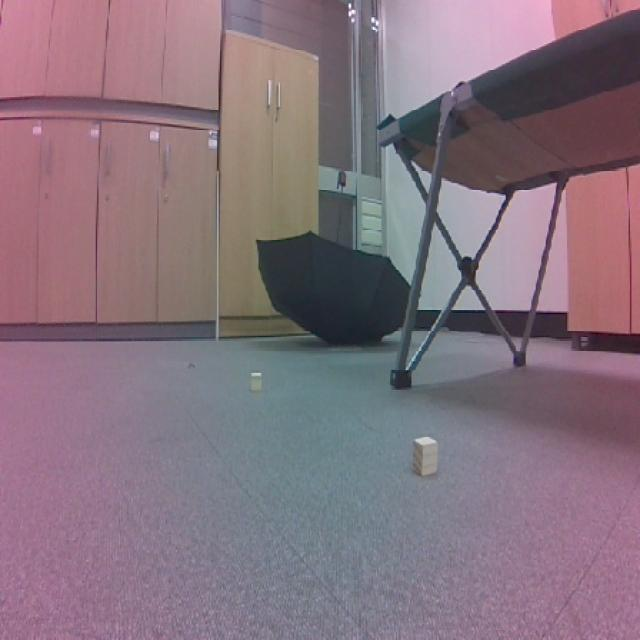obstacle: (404, 432, 446, 484), (244, 361, 272, 399)
